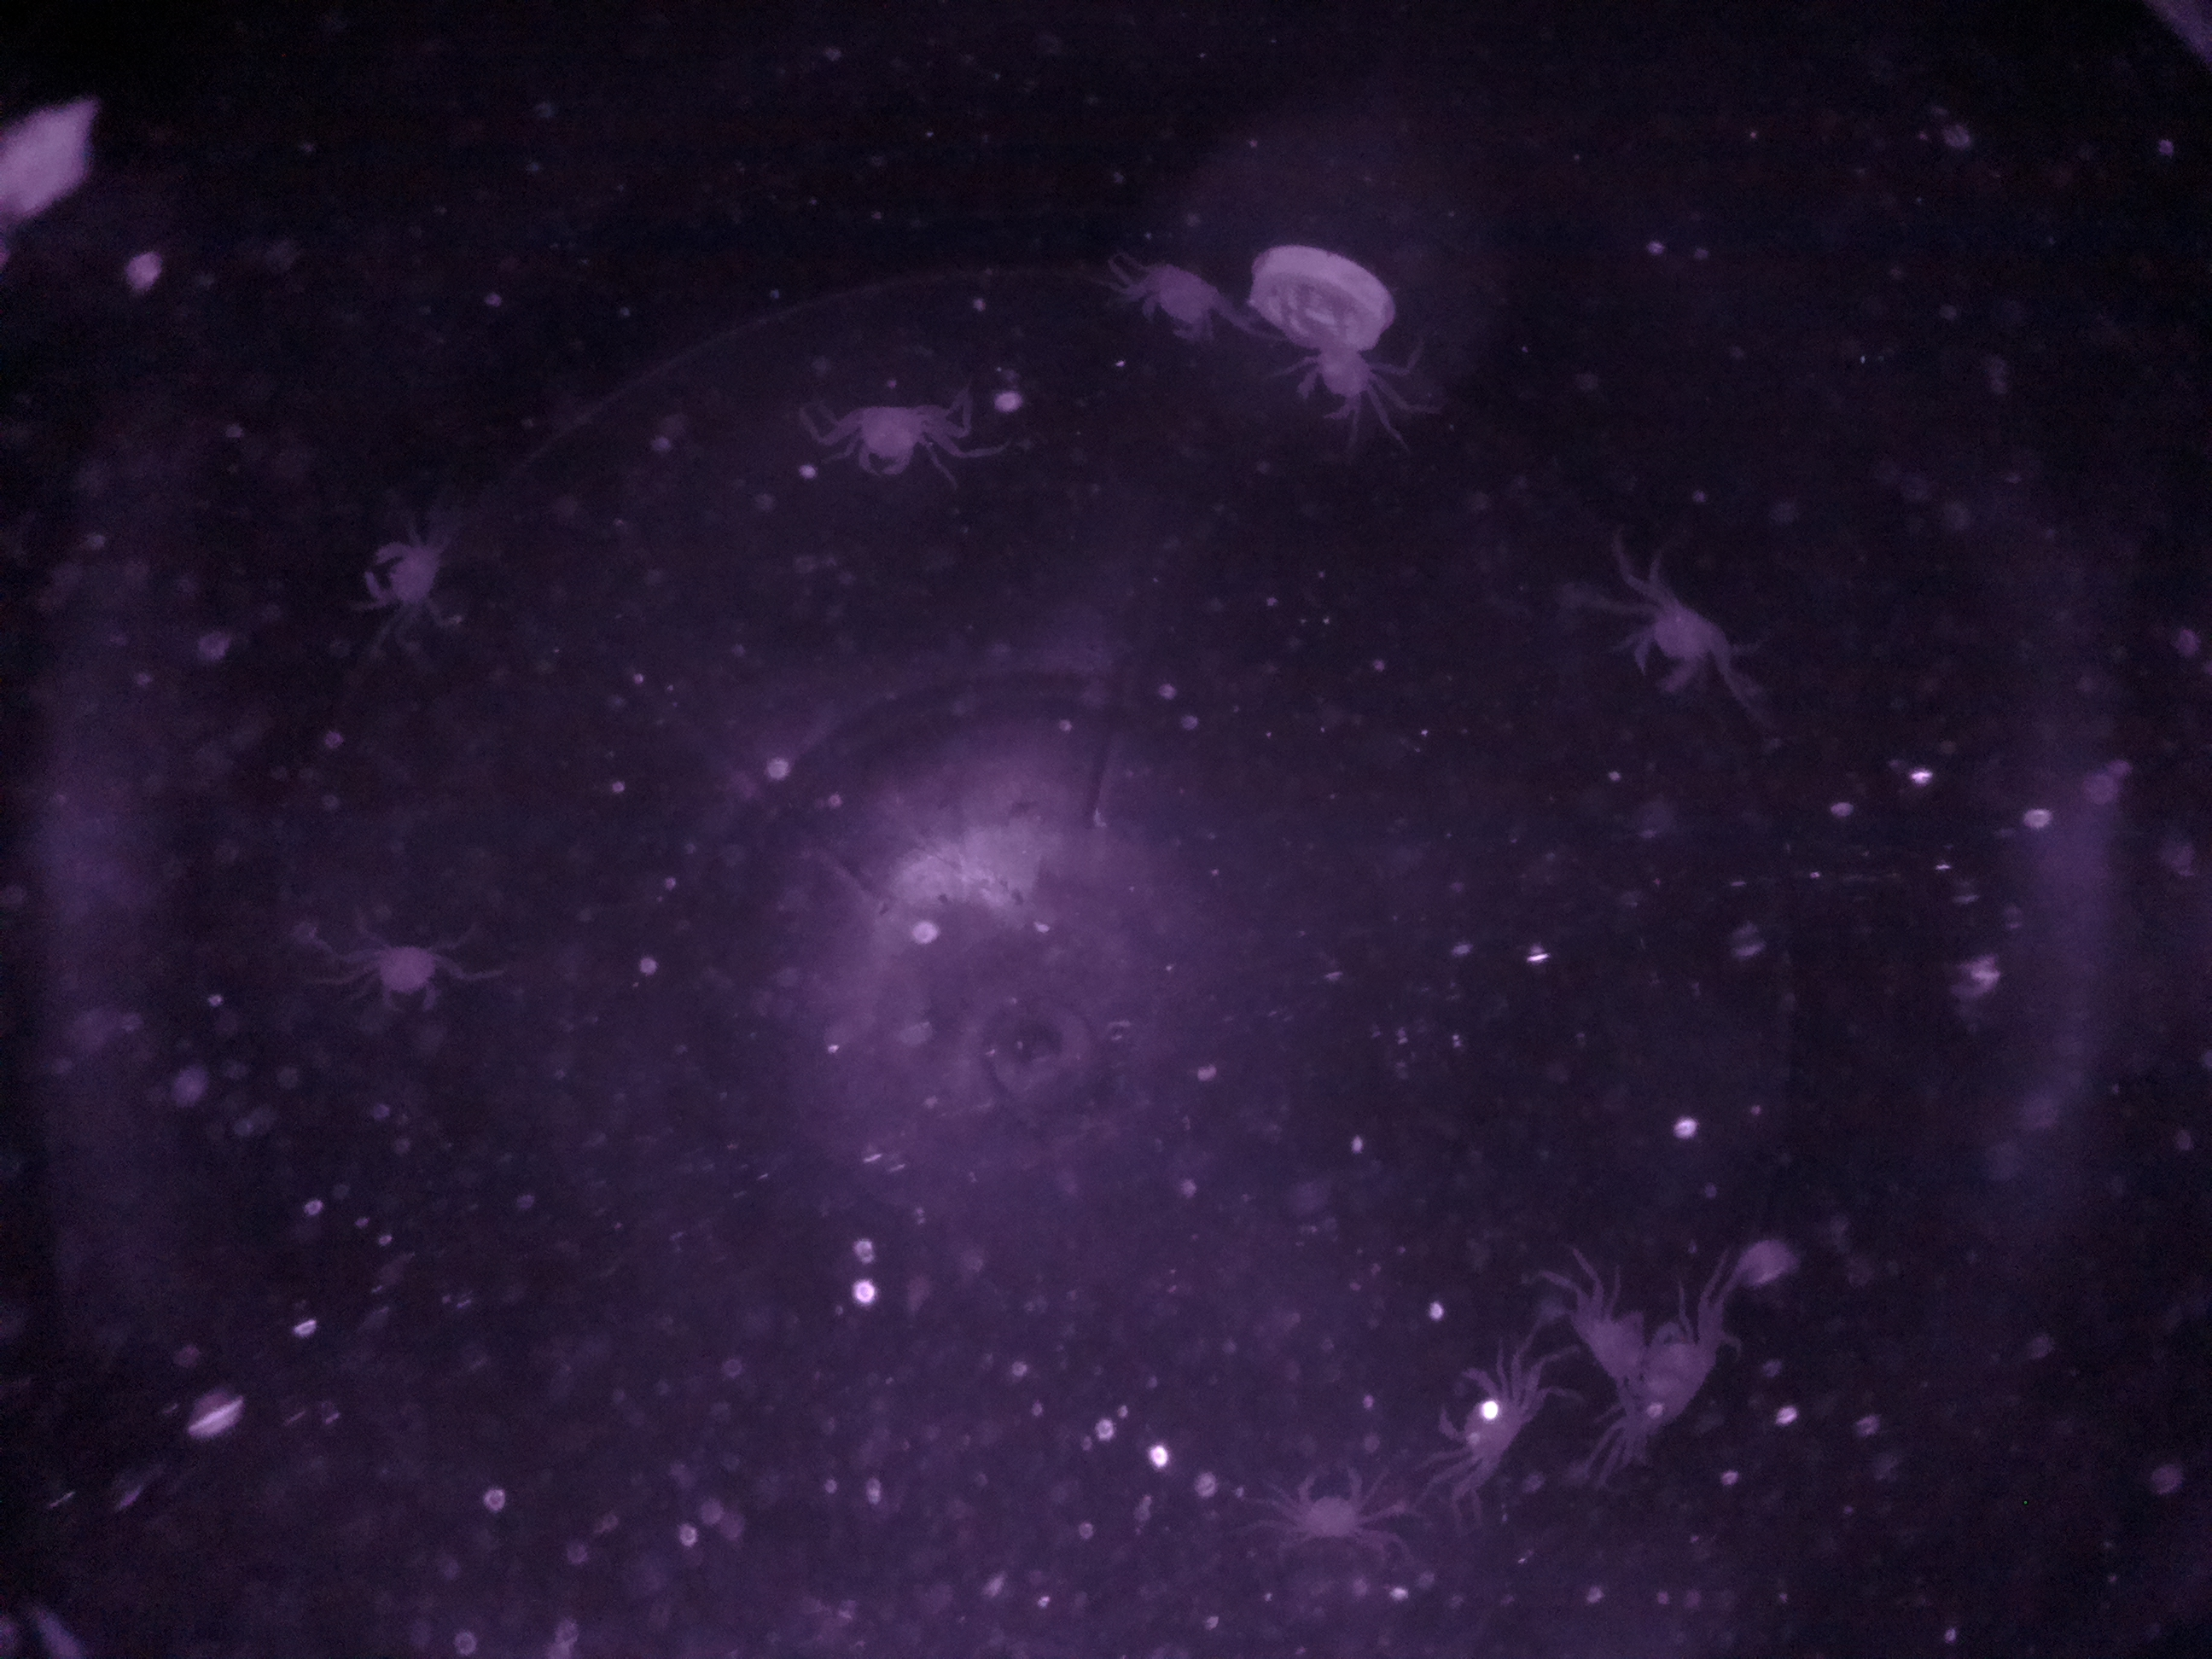Crab: (1428, 1351, 1552, 1488), (1618, 580, 1740, 706), (354, 904, 467, 1037), (1125, 240, 1242, 364), (1282, 319, 1399, 434), (1273, 1450, 1392, 1563), (341, 528, 455, 622), (841, 385, 937, 491)
